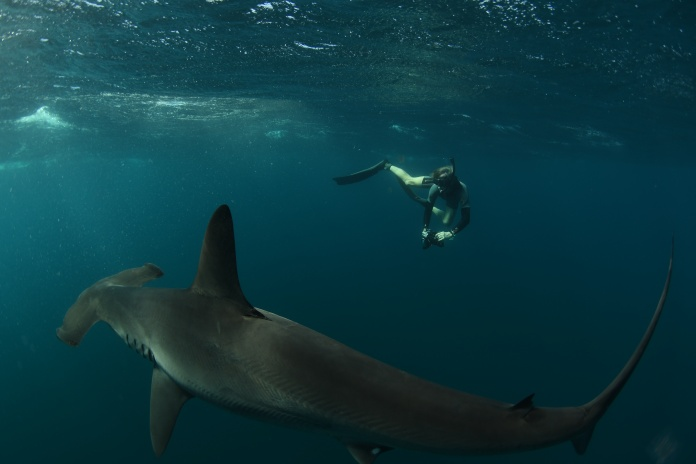Hammer: (40, 184, 696, 456)
